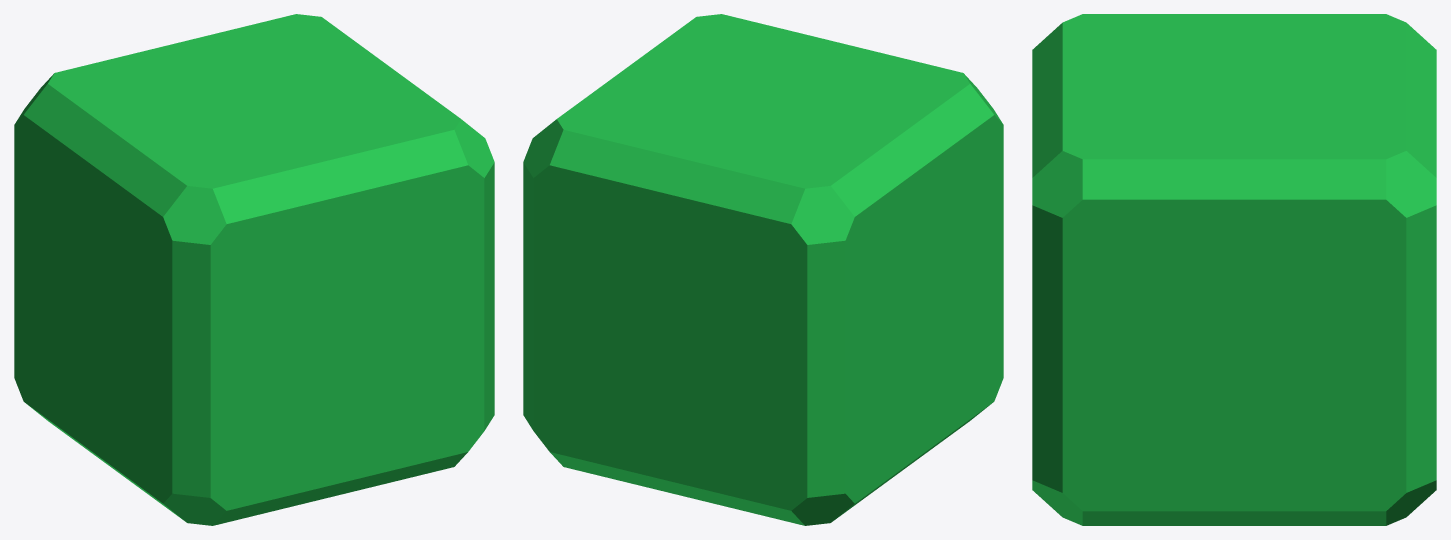
File: acid-cuboid.glb
3 views of the same model, side by side, from view 1: azimuth 30°, elevation 25°; view 2: azimuth 150°, elevation 25°; view 3: azimuth 270°, elevation 25° (orthographic). The views are drawn at different scales.
Parts seen in each view (by area): view 1: Cube; view 2: Cube; view 3: Cube.
Boxes of the visible parts, x1,y1,x2,y2 form: Cube: (14,14,494,525); Cube: (523,14,1003,525); Cube: (1032,14,1436,525).
Size of the model in its own units: 0.9622 by 0.9622 by 0.9622.
